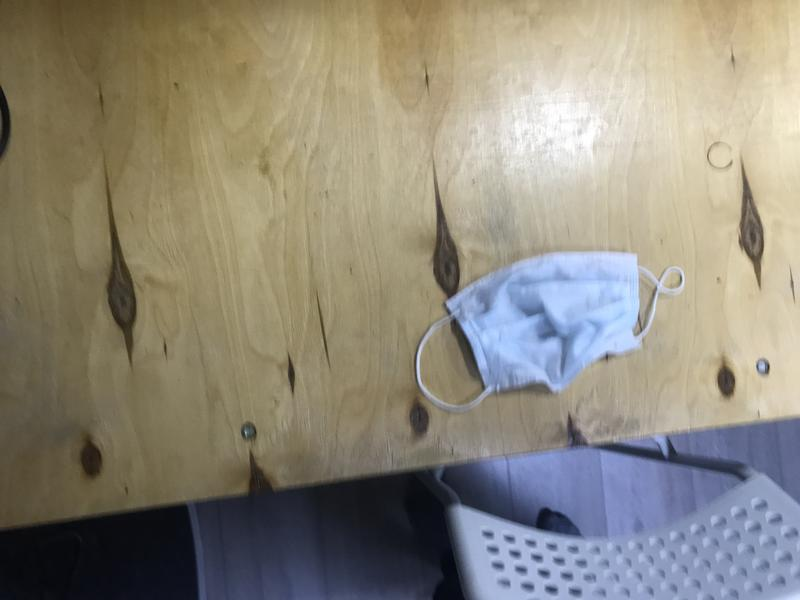medical_mask: (414, 252, 684, 414)
